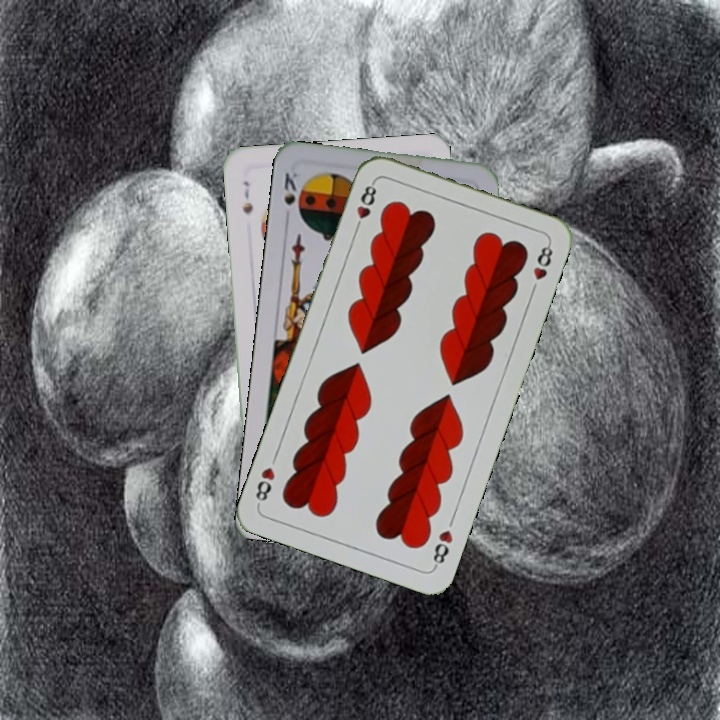H8: (351, 178, 379, 235), (428, 526, 456, 571)
S7: (238, 177, 255, 217)
SK: (279, 168, 305, 219)
